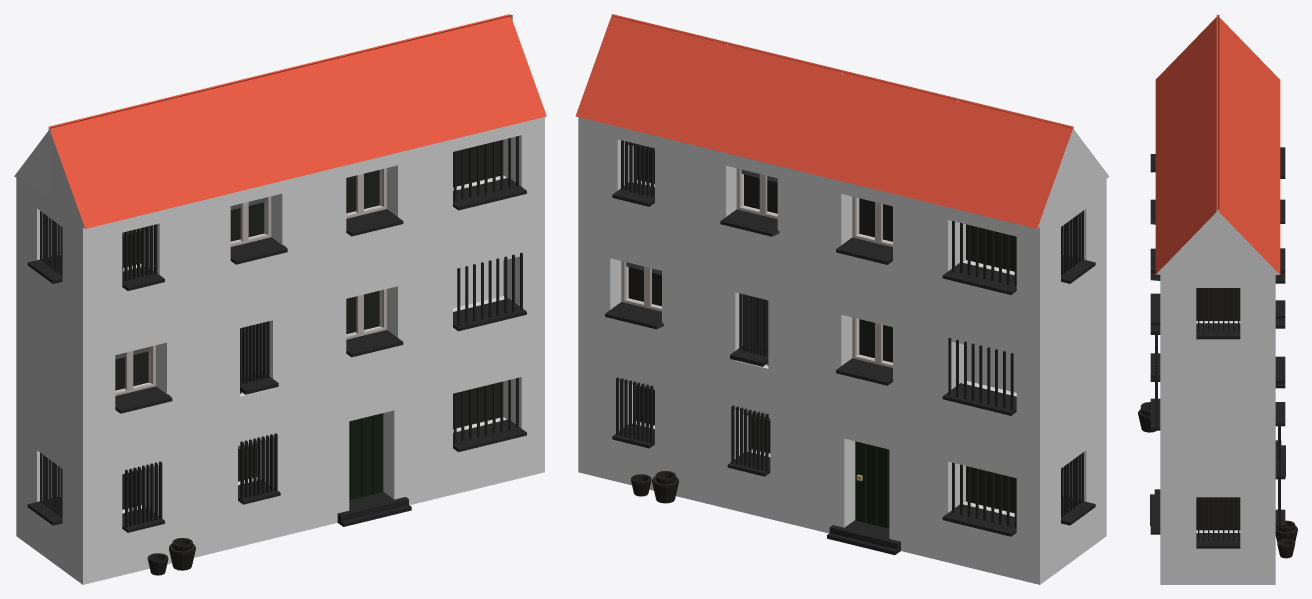
The model's file is CasaProcedural_4.fbx.
3 renders of one model, left to right at view 1: azimuth 30°, elevation 25°; view 2: azimuth 150°, elevation 25°; view 3: azimuth 270°, elevation 25°, orthographic. The views are drawn at different scales.
Parts seen in each view (by area): view 1: Procedural_Building; view 2: Procedural_Building; view 3: Procedural_Building.
Boxes of the visible parts, x1,y1,x2,y2 form: Procedural_Building: [14, 14, 546, 584]; Procedural_Building: [575, 14, 1109, 584]; Procedural_Building: [1138, 14, 1297, 584].
Bounding box in the file's own units: 416 × 359 × 138.
